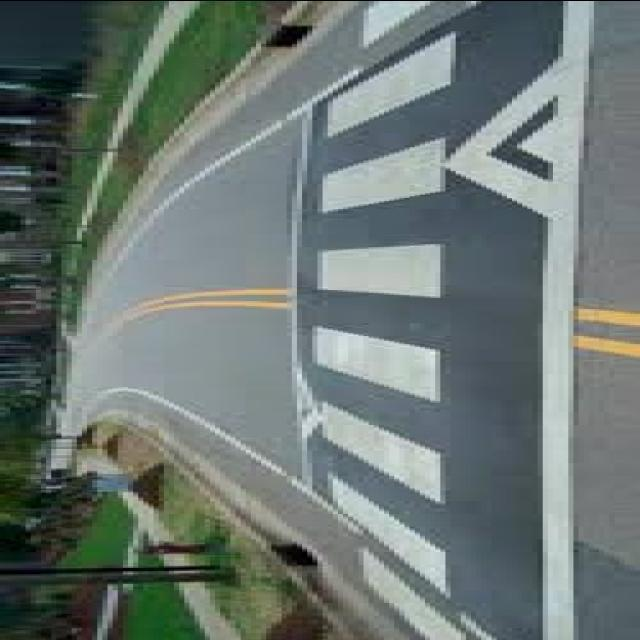speedbreaker: (296, 12, 584, 606)
